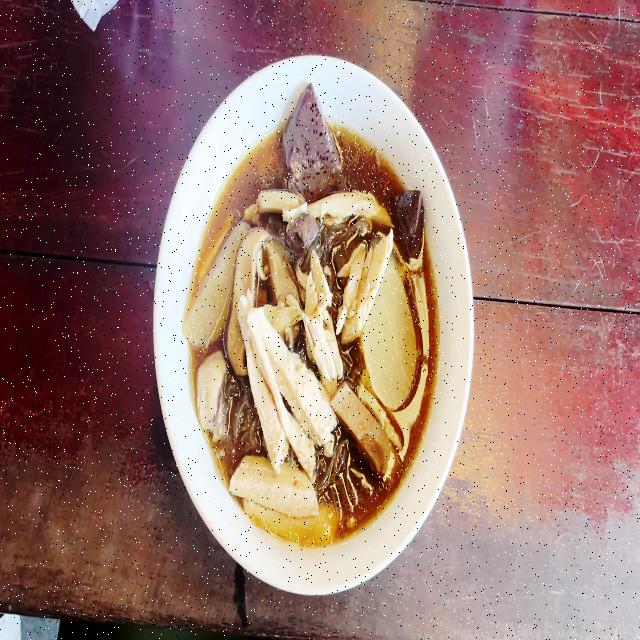boiled_chicken_blood_jelly: (286, 89, 342, 191), (393, 190, 428, 264), (285, 212, 319, 260)
chicken_shredded: (240, 297, 328, 469), (235, 455, 336, 542), (340, 235, 395, 327), (242, 192, 386, 226), (310, 262, 338, 382), (200, 357, 226, 424)
daikon_radish: (183, 224, 242, 344), (374, 279, 415, 406)
noodle: (192, 114, 441, 540)
